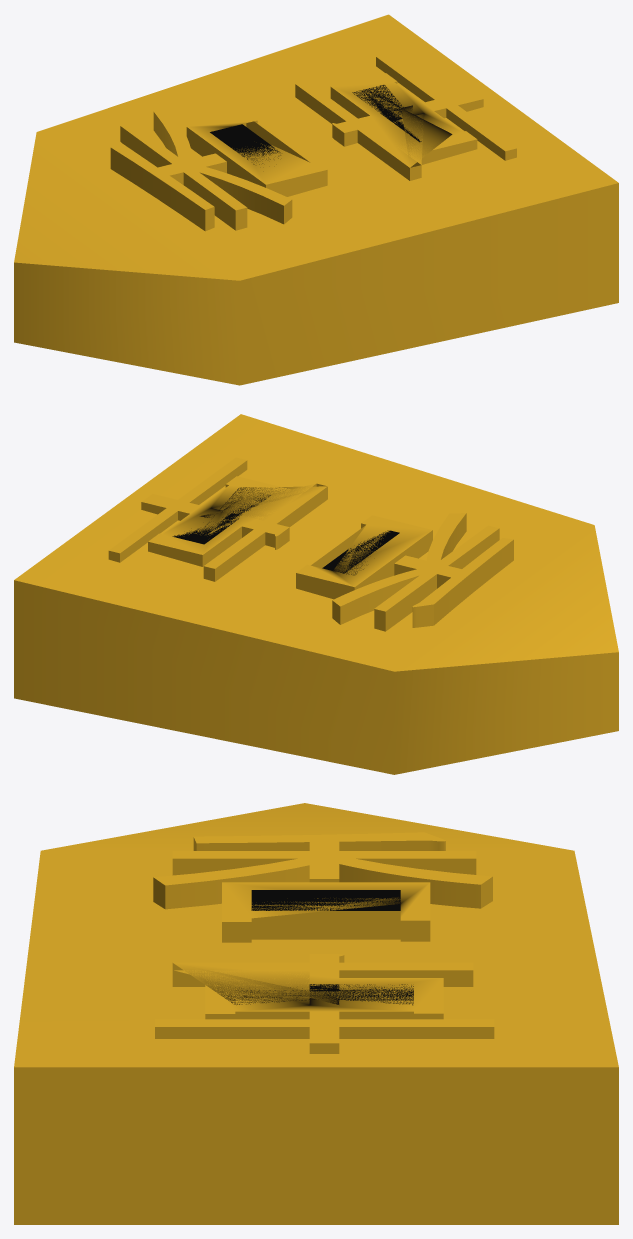
File: lance.fbx
3 renders of one model, top to bottom at view 1: azimuth 30°, elevation 25°; view 2: azimuth 150°, elevation 25°; view 3: azimuth 270°, elevation 25°, orthographic. The views are drawn at different scales.
Visible parts, largest first — view 1: pCube1, typeMesh1; view 2: pCube1, typeMesh1; view 3: pCube1, typeMesh1.
Boxes of the visible parts, box(x1,y1,x2,y2) form: pCube1: box(14, 14, 618, 385); typeMesh1: box(110, 54, 516, 231); pCube1: box(14, 414, 618, 774); typeMesh1: box(108, 457, 513, 631); pCube1: box(14, 803, 618, 1224); typeMesh1: box(153, 832, 494, 1053).
Bounding box in the file's own units: 6.47 × 1.59 × 5.22.
